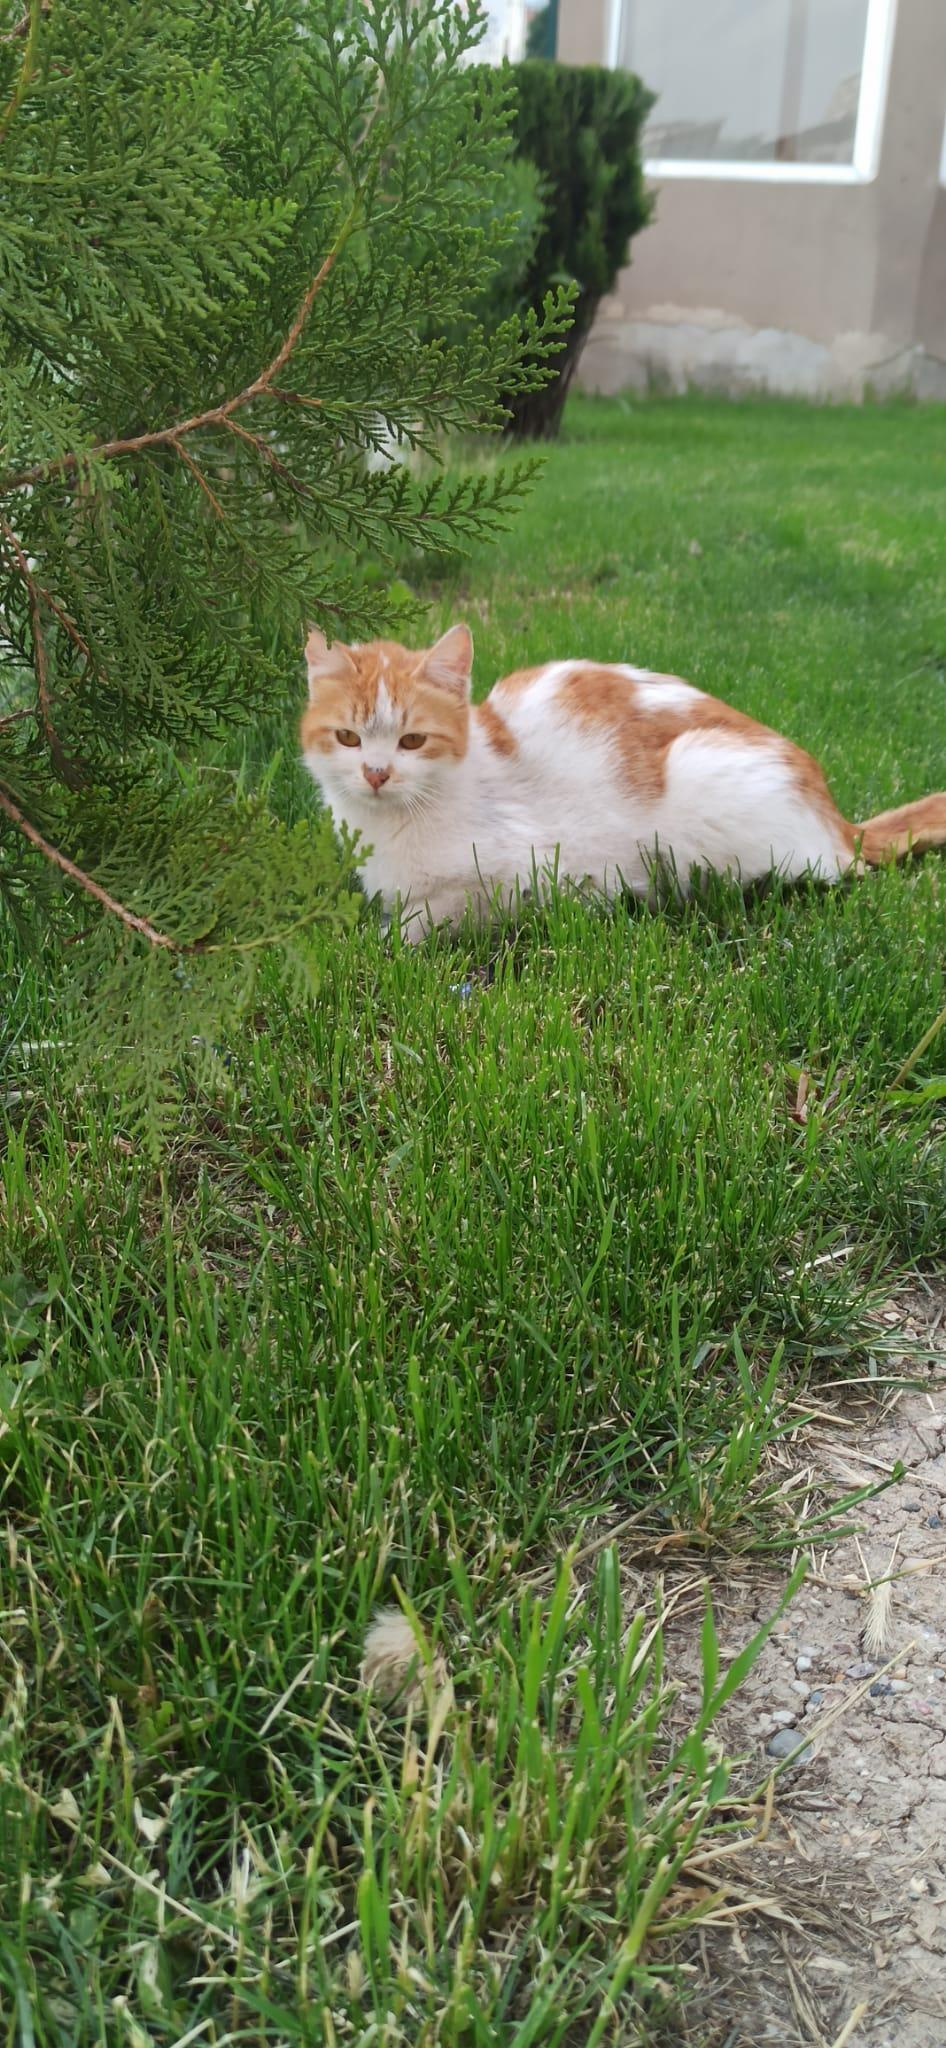kedo: (304, 628, 946, 935)
